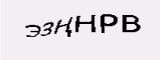Б: (63, 23, 72, 41)
Ж: (43, 22, 61, 44)
С: (105, 22, 121, 47)
Ф: (84, 21, 103, 46)
Я: (71, 22, 85, 45)
